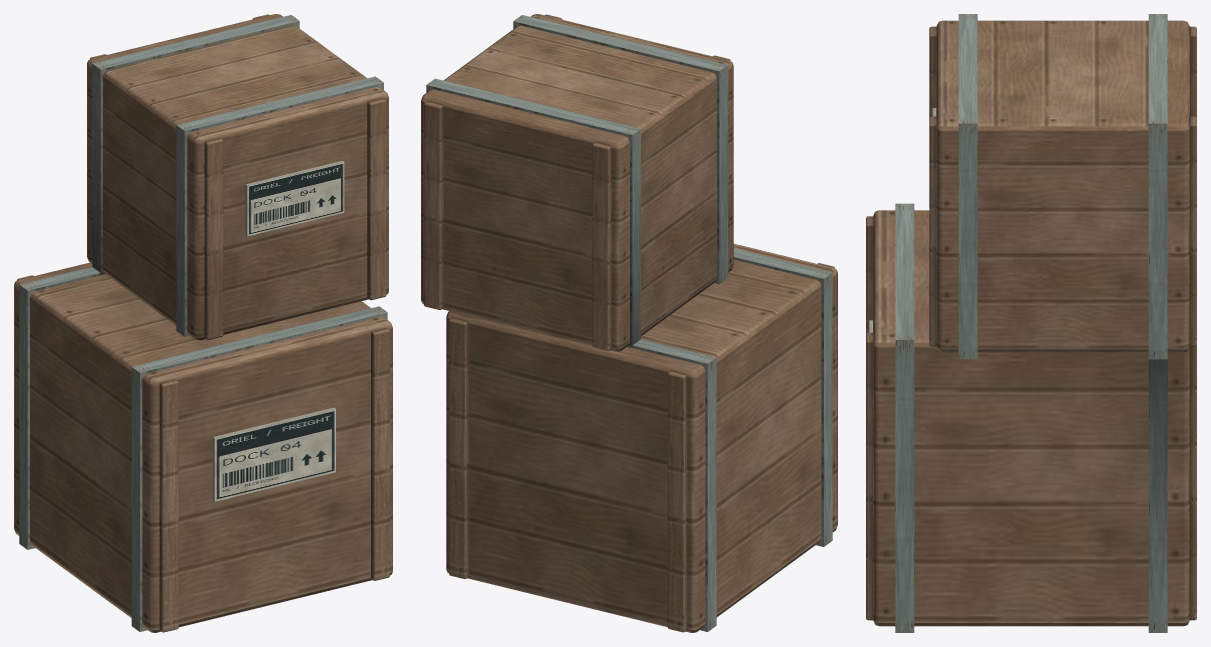
The model's file is crate_stack.glb.
The picture shows the model from 3 angles, left to right: view 1: azimuth 30°, elevation 25°; view 2: azimuth 150°, elevation 25°; view 3: azimuth 270°, elevation 25°; orthographic projection. The views are drawn at different scales.
Parts seen in each view (by area): view 1: CrateStack; view 2: CrateStack; view 3: CrateStack.
Part boxes in pixels (box(x1,y1,x2,y2)): CrateStack: box(14, 14, 392, 632); CrateStack: box(421, 14, 837, 632); CrateStack: box(866, 14, 1196, 632).
Size of the model in its own units: 1.12 by 1.82 by 1.04.
1 material, 1 textured.
